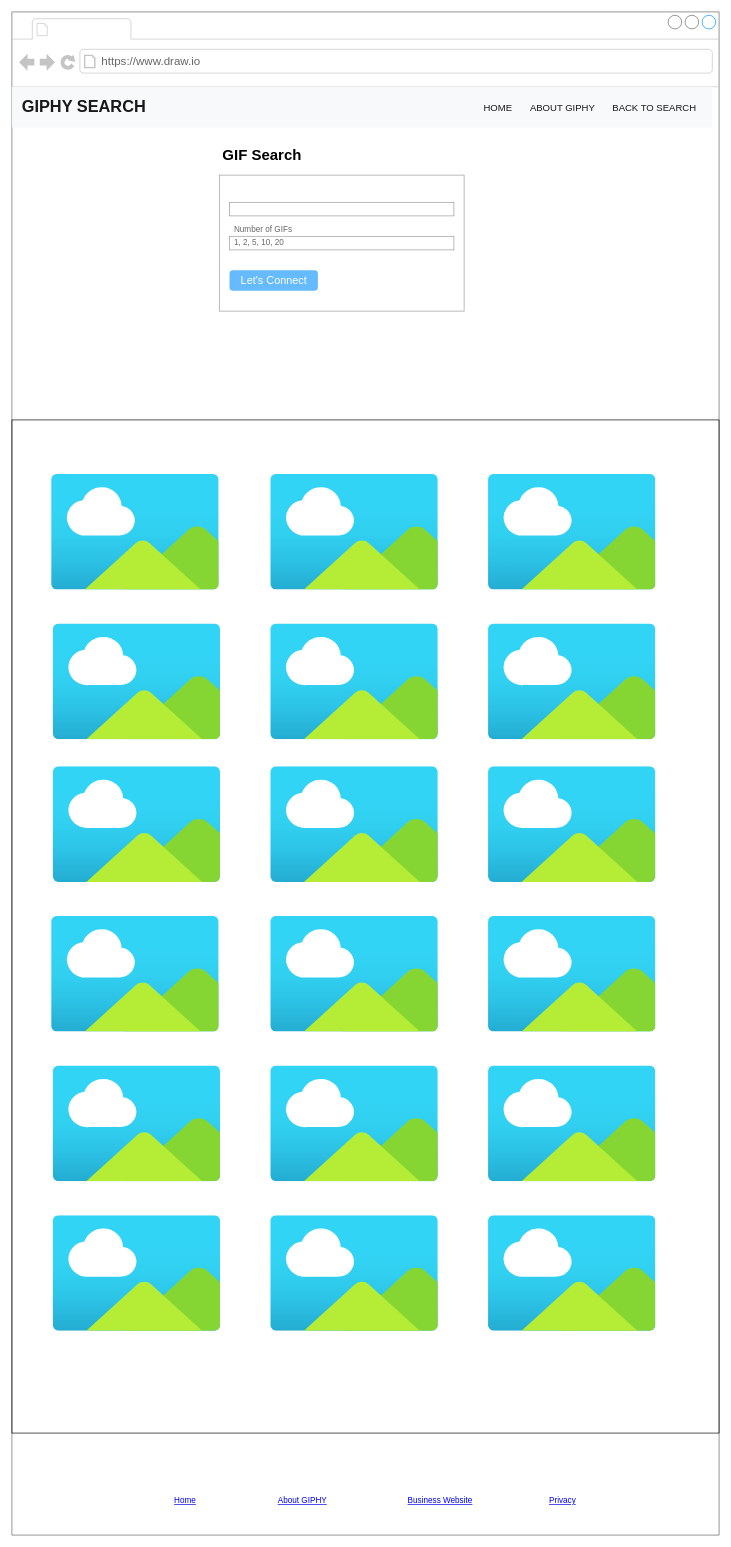
Image size: 731x1547. Some labels were removed from this diagram. The shapes that lost their labels are listed below. From the top down, each one's centre as x and y in pixels, then its label:
At point 90,28: "Page 1".
At point 266,195: "What are you looking for?".
